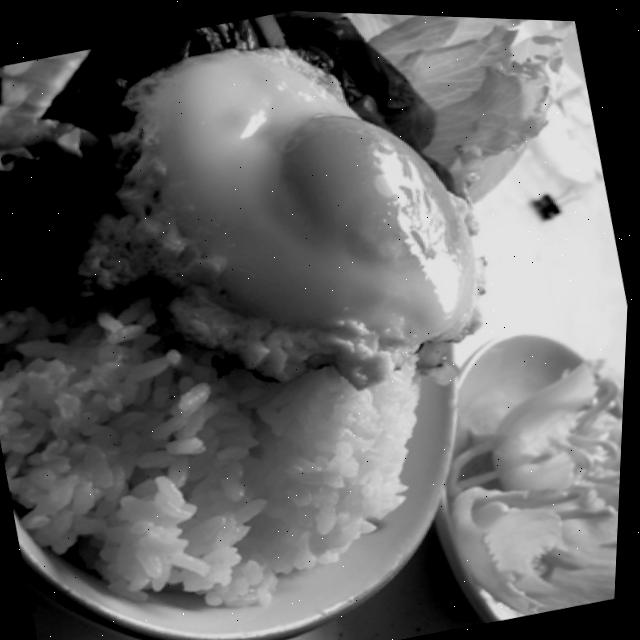鸡蛋料理: (95, 5, 540, 424)
